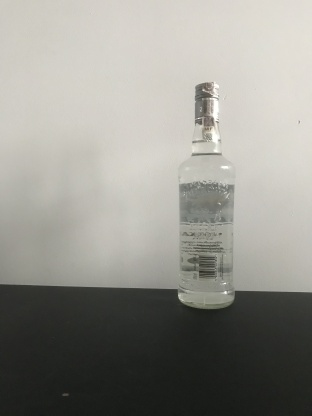nakretka: (193, 79, 221, 124)
